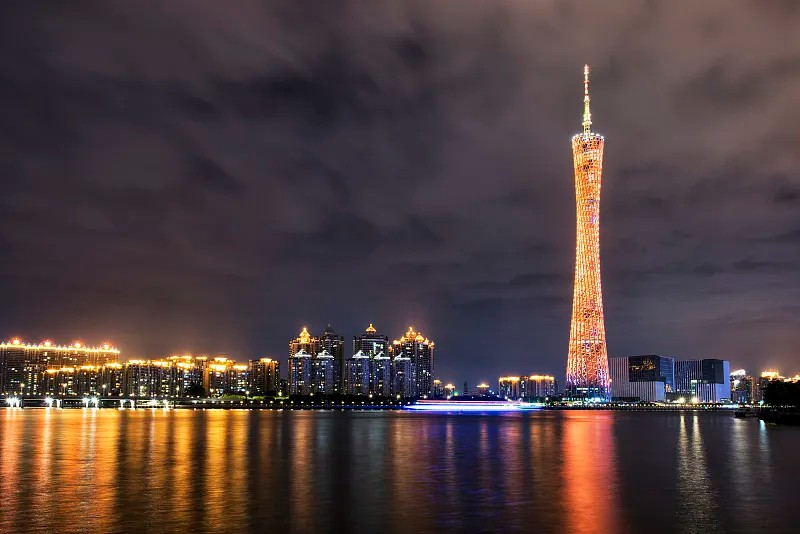Canton: (565, 58, 607, 397)
